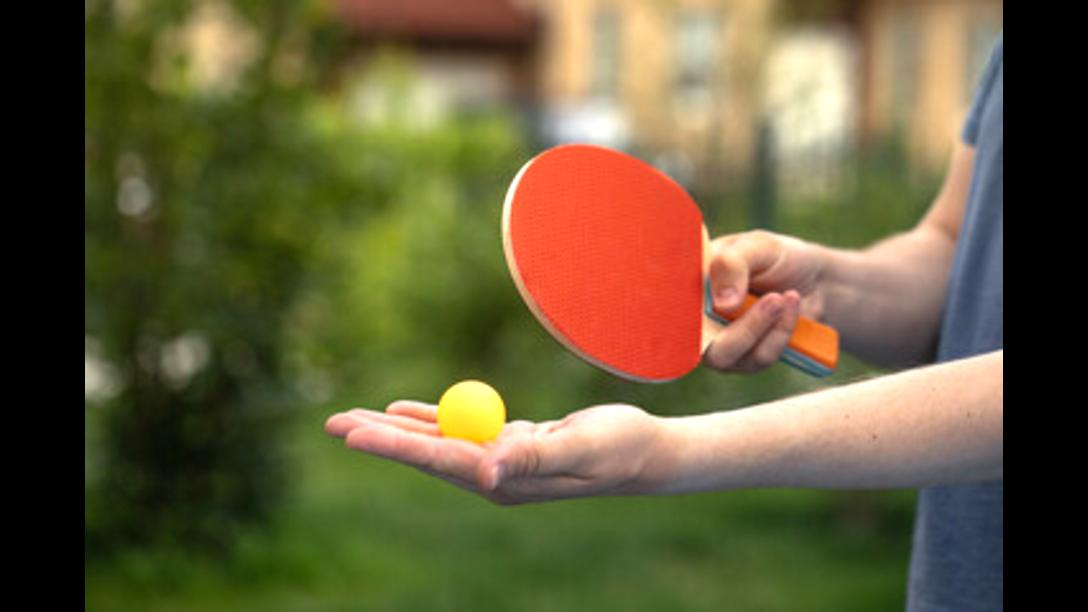Table-Tennis-Ball: (439, 380, 505, 440)
